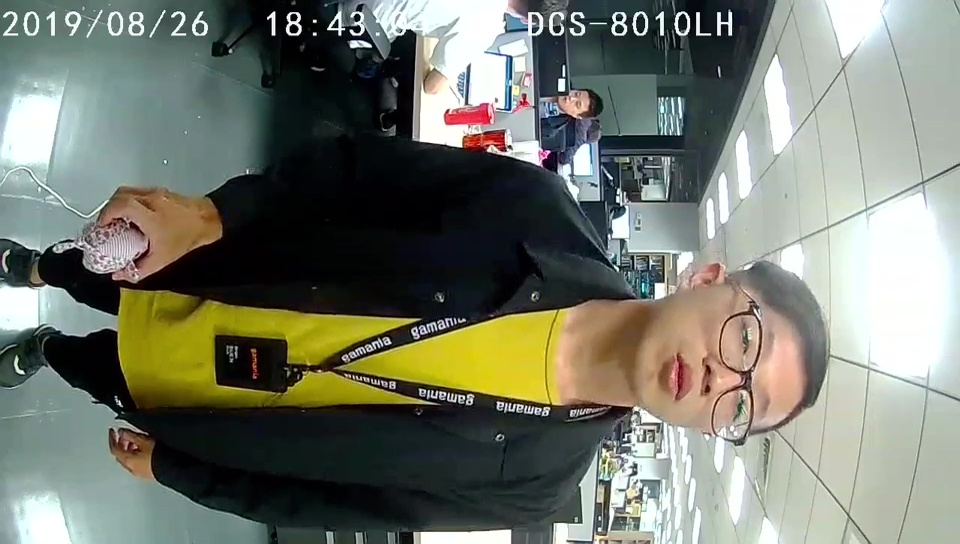pig: (78, 217, 149, 282)
